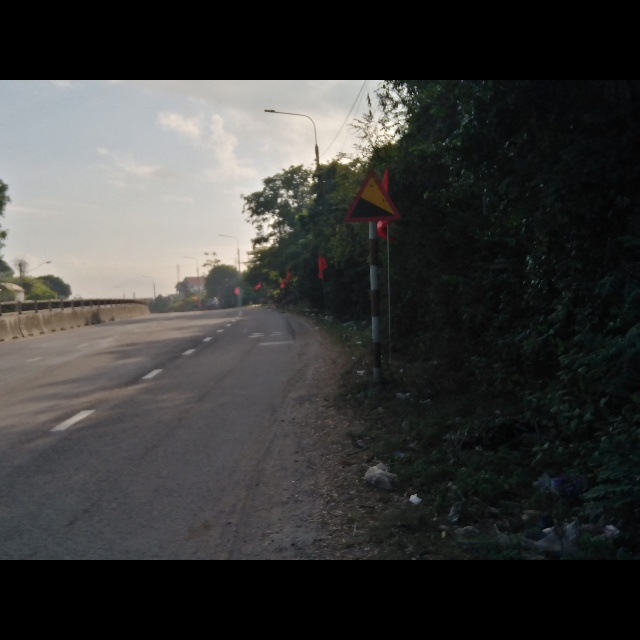Dốc lên nguy hiểm: (344, 169, 402, 225)
